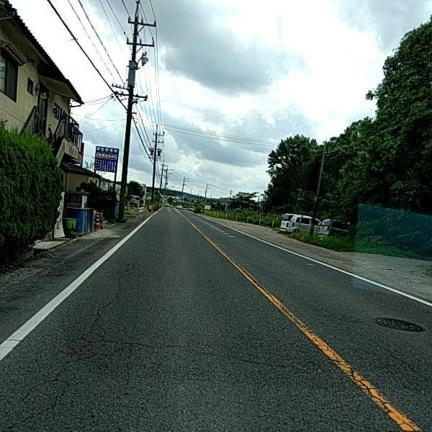Road: (0, 208, 431, 431)
